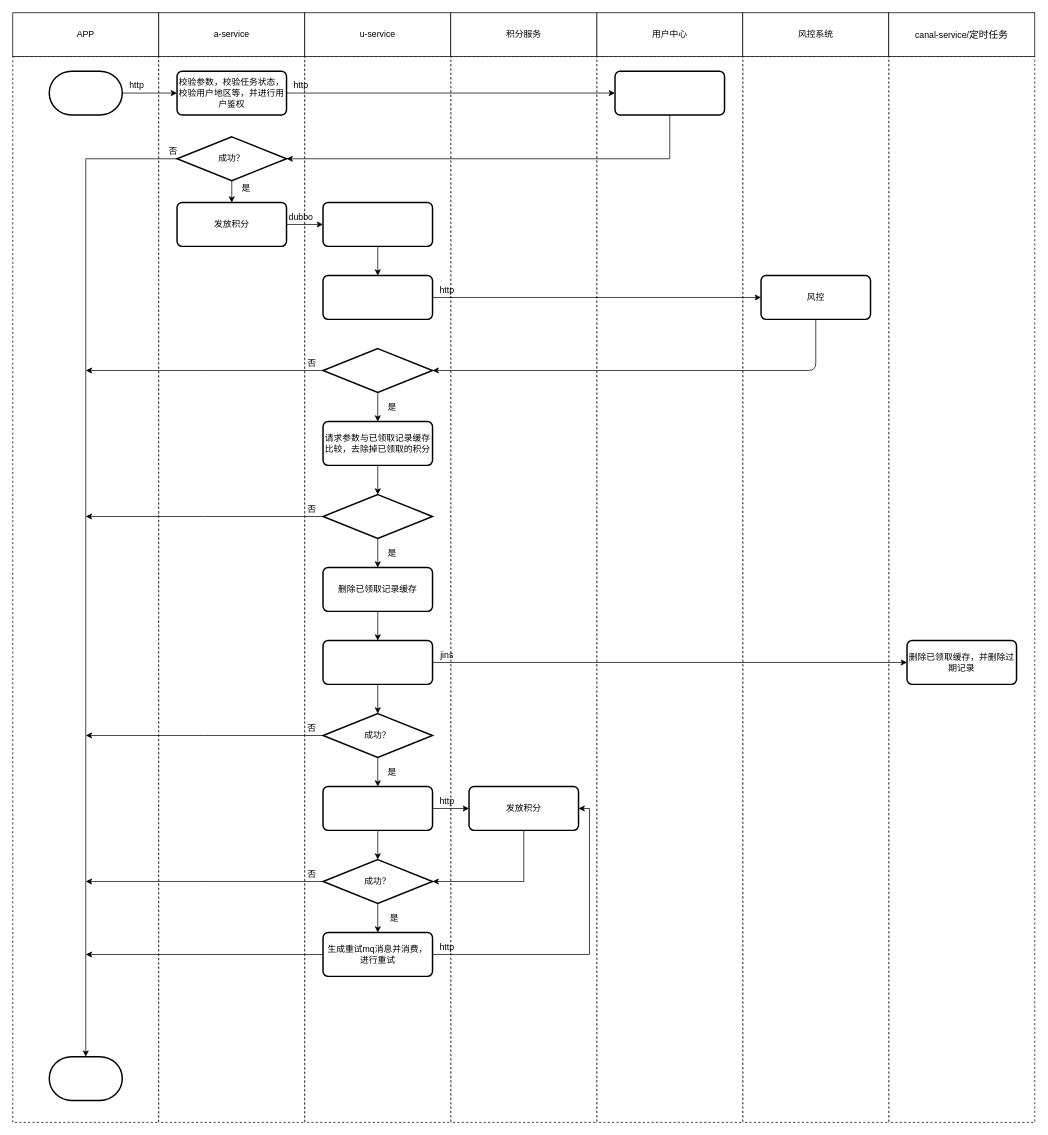
The diagram is 1048 pixels wide and 1135 high, and some of its shapes have lost their labels. Here are the shapes that lost their labels. From the top down, the centre of each, then its label:
At point (85, 92): "发起领取 积分请求".
At point (669, 92): "用户鉴权".
At point (377, 224): "获取用户操作锁".
At point (377, 297): "获取风控结果".
At point (377, 370): "通过风控".
At point (377, 516): "是否仍有待领取积分".
At point (377, 662): "创建积分订单并更新领取记录数据库".
At point (377, 808): "调用积分系统 发放积分接口".
At point (85, 1078): "流程结束".
